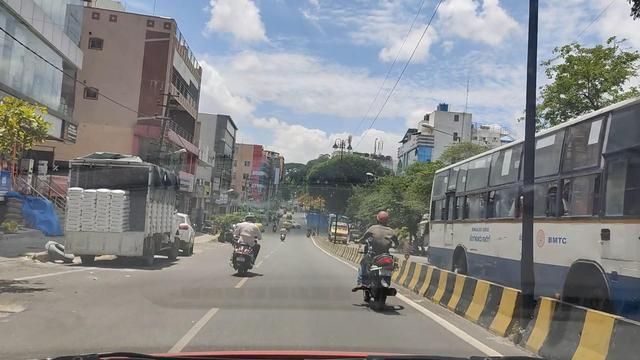HMV: (52, 143, 188, 273)
LMV: (348, 206, 404, 315), (222, 206, 265, 289)
